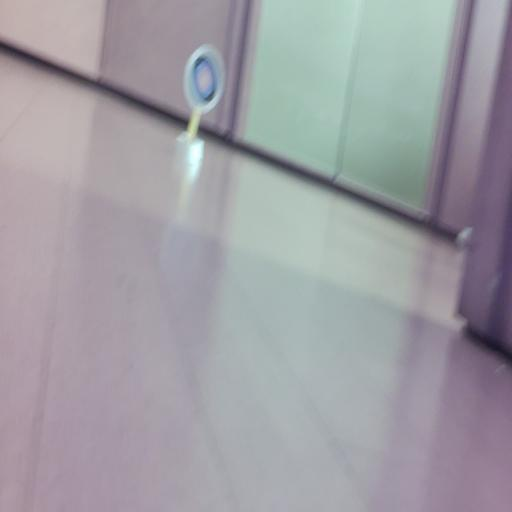target: (184, 45, 225, 114)
